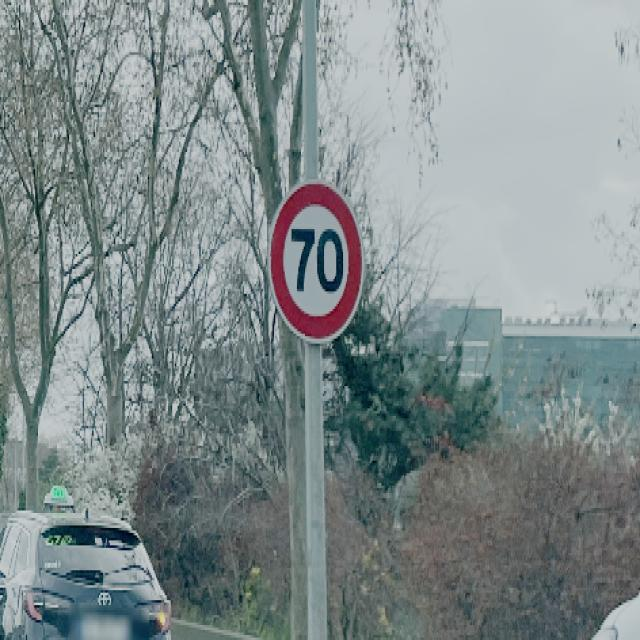speed_70: (267, 180, 363, 340)
